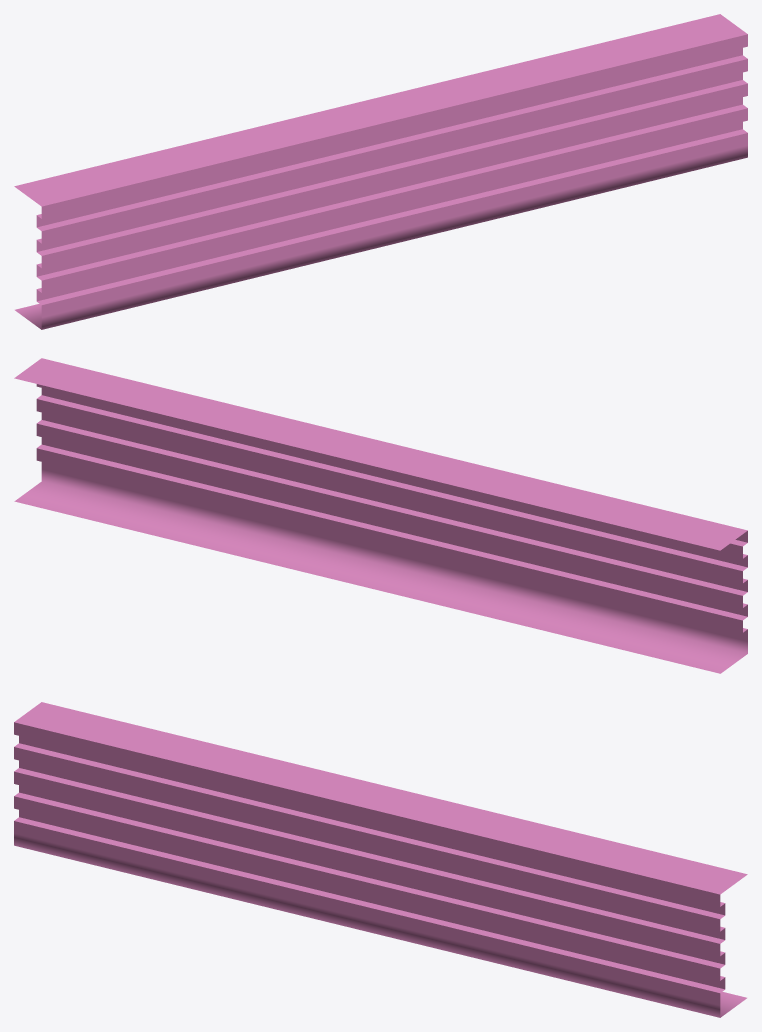
The model's file is WallTrim.fbx.
The picture shows the model from 3 angles, top to bottom: view 1: azimuth 30°, elevation 25°; view 2: azimuth 150°, elevation 25°; view 3: azimuth 330°, elevation 25°; orthographic projection.
Parts seen in each view (by area): view 1: Cube.008; view 2: Cube.008; view 3: Cube.008.
Part boxes in pixels (<box>): Cube.008: <box>14,14,747,329</box>; Cube.008: <box>14,358,747,673</box>; Cube.008: <box>14,702,747,1017</box>.
Bounding box in the file's own units: 300 × 50.06 × 20.35.
